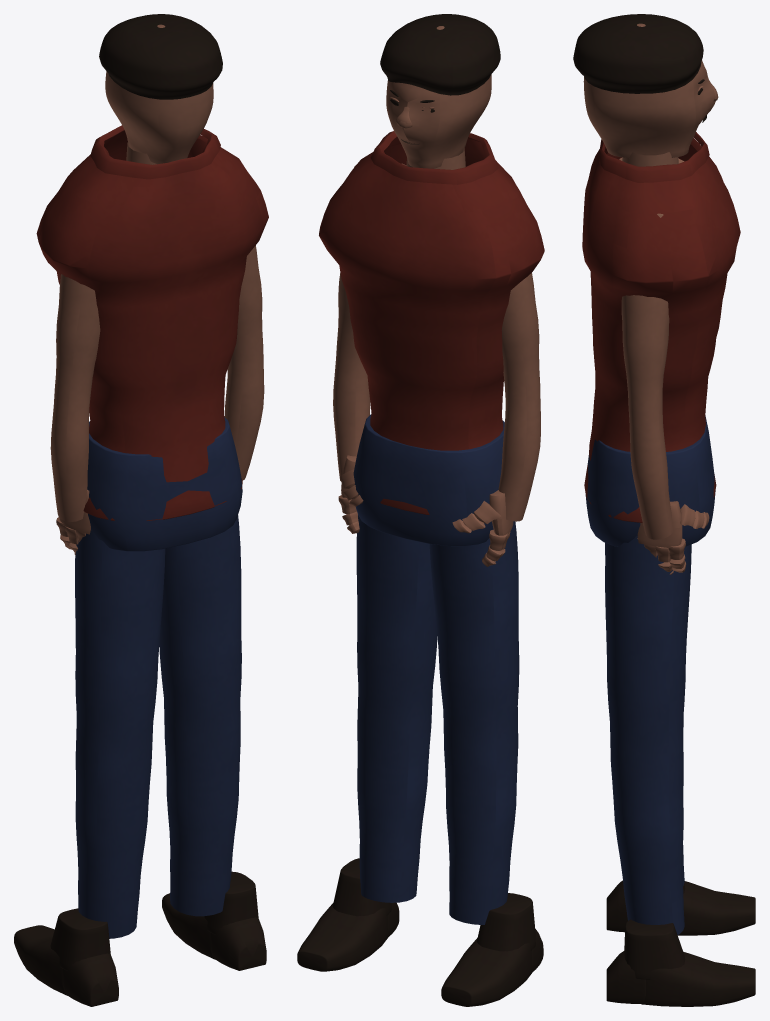
File: pilot.glb
The picture shows the model from 3 angles, left to right: view 1: azimuth 30°, elevation 25°; view 2: azimuth 150°, elevation 25°; view 3: azimuth 270°, elevation 25°; orthographic projection. The views are drawn at different scales.
Parts seen in each view (by area): view 1: body_shirt, body_jeansR, body_jeansL, body_hips, body_armR, body_hair, body_shoeR, body_armL, body_head, body_shoeL, body_handR; view 2: body_shirt, body_jeansR, body_jeansL, body_hips, body_armR, body_hair, body_shoeR, body_head, body_shoeL, body_armL, body_handR, body_handL; view 3: body_shirt, body_jeansL, body_armL, body_shoeL, body_hair, body_hips, body_head, body_shoeR, body_handL, body_neck.
Part boxes in pixels (x1,y1,x2,y2): body_shirt: (36, 125, 268, 520); body_jeansR: (75, 528, 165, 938); body_jeansL: (159, 515, 241, 916); body_hips: (87, 417, 242, 551); body_armR: (50, 274, 100, 521); body_hair: (99, 14, 222, 99); body_shoeR: (14, 908, 118, 1006); body_armL: (224, 245, 264, 480); body_head: (105, 24, 213, 164); body_shoeL: (162, 871, 266, 970); body_handR: (56, 490, 90, 554); body_shirt: (319, 131, 544, 514); body_jeansR: (429, 521, 519, 924); body_jeansL: (356, 515, 437, 902); body_hips: (353, 414, 504, 546); body_armR: (498, 273, 540, 521); body_hair: (380, 14, 500, 95); body_shoeR: (441, 893, 543, 1006); body_head: (386, 26, 491, 168); body_shoeL: (297, 858, 399, 971); body_armL: (333, 163, 406, 478); body_handR: (452, 490, 513, 566); body_handL: (338, 455, 363, 533); body_shirt: (582, 132, 740, 522); body_jeansL: (605, 536, 691, 934); body_armL: (621, 213, 673, 539); body_shoeL: (606, 919, 755, 1006); body_hair: (573, 14, 703, 93); body_hips: (585, 415, 715, 546); body_head: (583, 23, 718, 157); body_shoeR: (606, 880, 755, 935); body_handL: (637, 501, 709, 574); body_neck: (622, 152, 678, 166).
Bounding box in the file's own units: 0.3667 × 1.58 × 0.279.
Materials: 4 (4 with a texture image).
